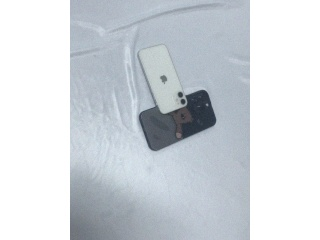phone: (137, 87, 218, 151), (138, 44, 186, 114)
